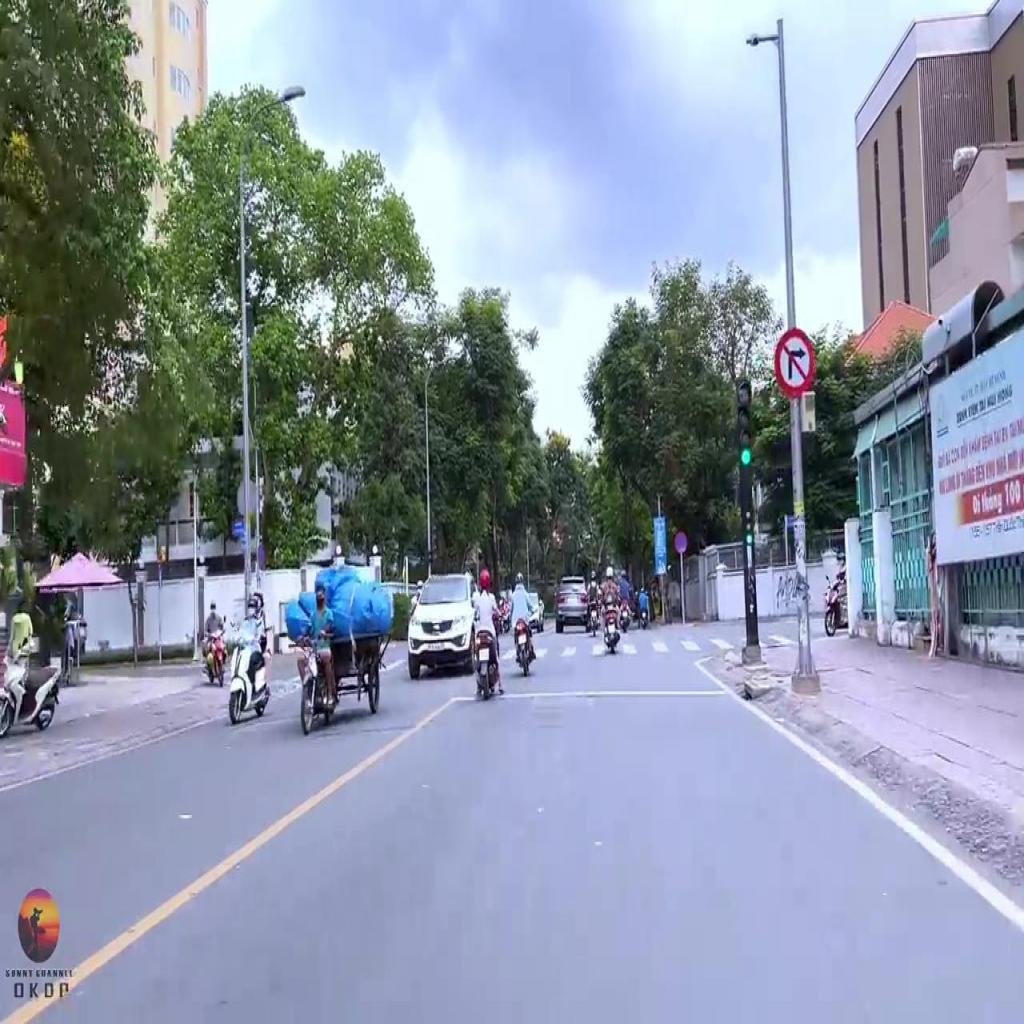cam_do_xe: (674, 532, 688, 553)
cam_re_phai: (775, 328, 814, 397)
